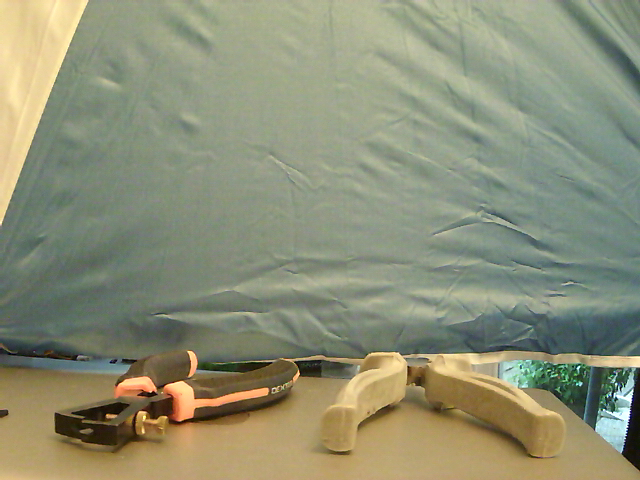pliers: (324, 350, 567, 463)
